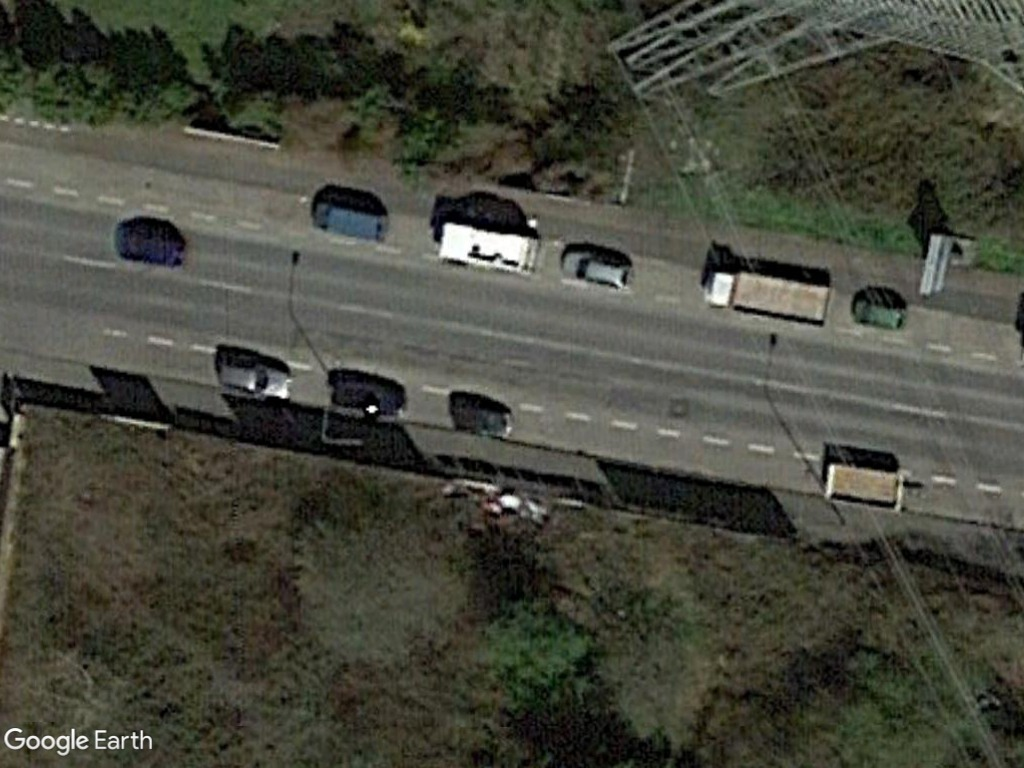car: (214, 352, 294, 403)
truck: (699, 265, 835, 330)
